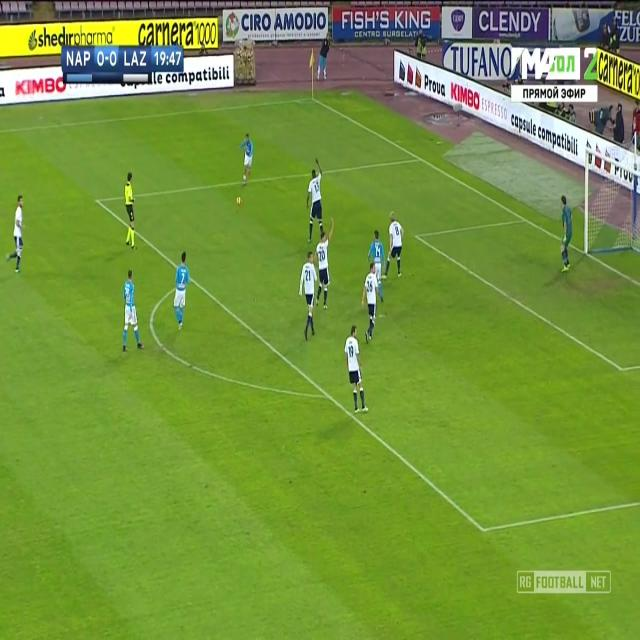Ball: (235, 193, 242, 208)
Goalkeeper: (560, 194, 576, 277)
Player: (342, 326, 370, 418), (298, 248, 320, 345), (120, 266, 144, 354), (4, 194, 26, 276), (315, 218, 334, 310), (306, 159, 325, 247), (383, 210, 405, 283), (172, 248, 190, 332), (362, 262, 378, 340), (238, 130, 257, 186), (366, 229, 386, 274)
Referee: (122, 167, 141, 252)
